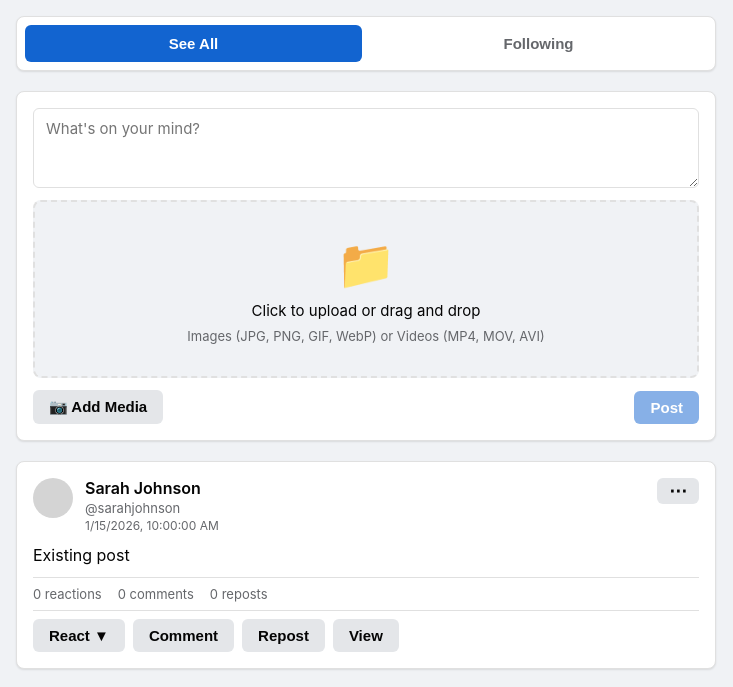
Test: Feed Page › shows the following-specific empty message on the Following tab
Expected: the text "Existing post" is shown, x1=33 y1=545 x2=130 y2=565
Click the button "Following" at (538,44), box x1=370 y1=25 x2=707 y2=62
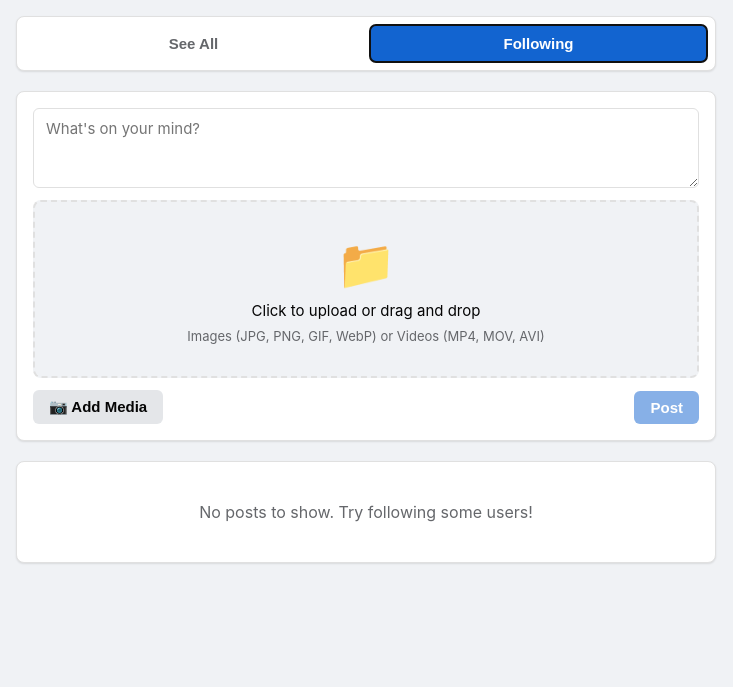
Now the text "No posts to show. Try following some users!" is shown, box x1=199 y1=502 x2=533 y2=522
